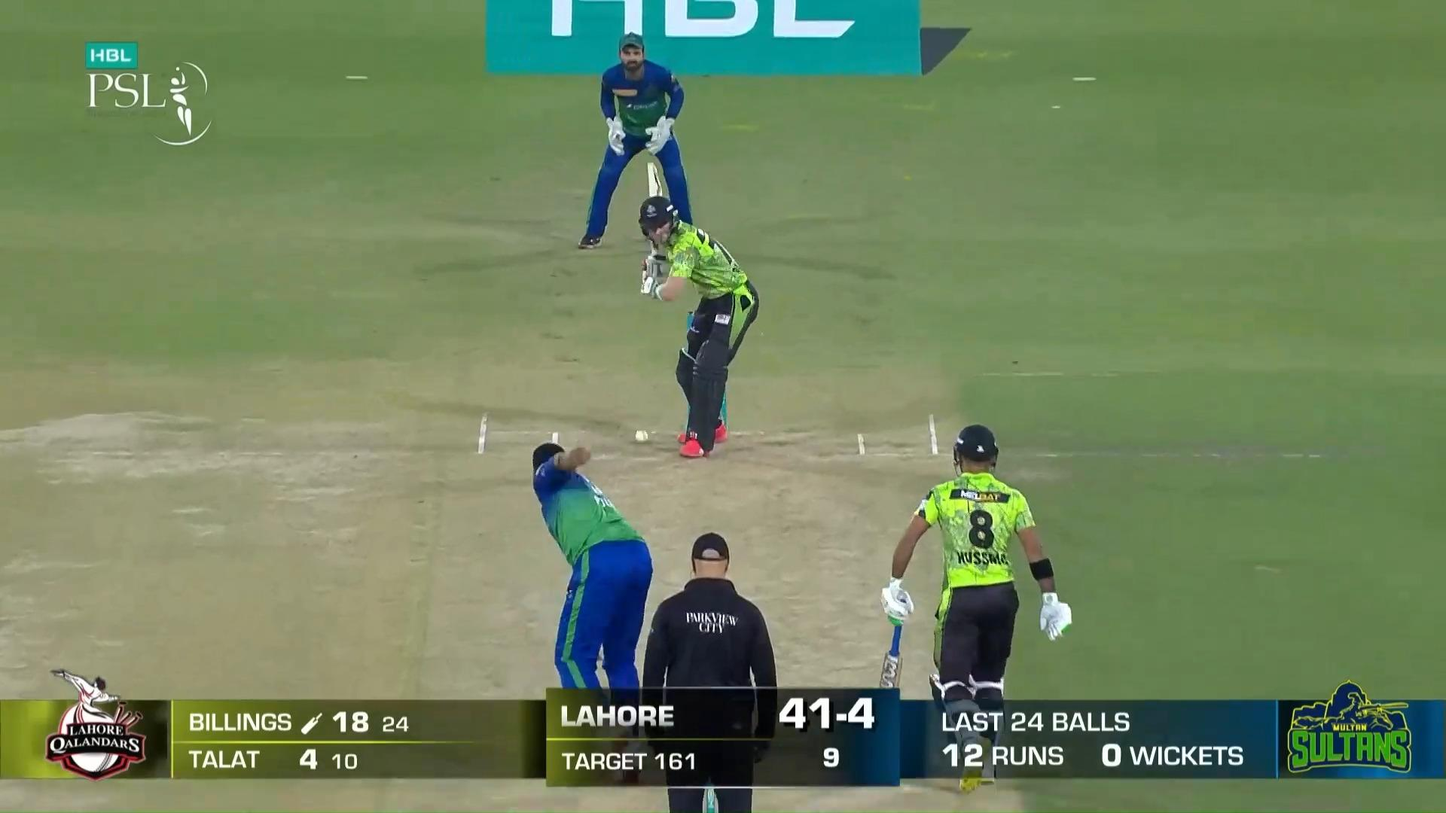batsman: (639, 162, 759, 460)
